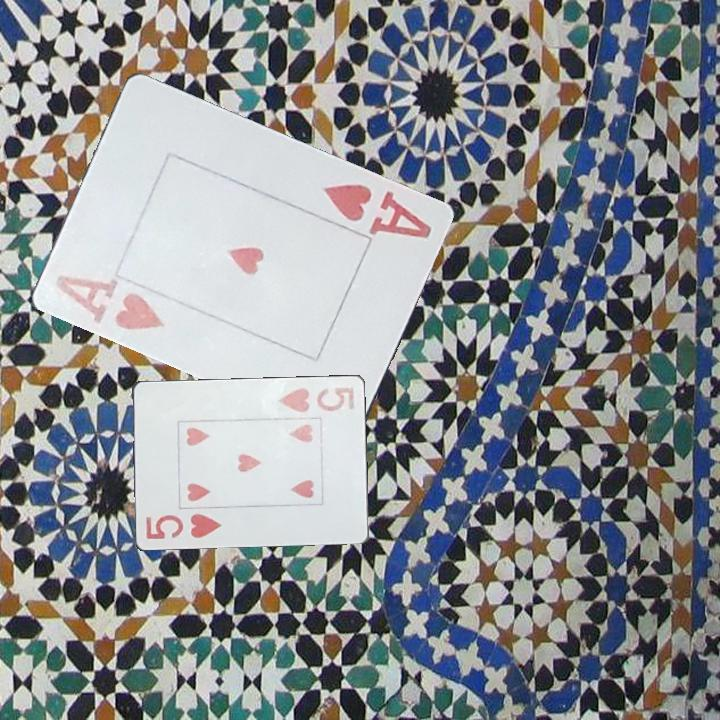5h: (273, 382, 357, 416), (142, 510, 225, 543)
Ah: (51, 271, 169, 333), (320, 180, 435, 241)
